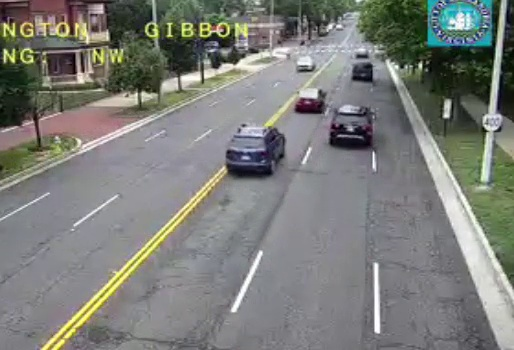car: (226, 126, 286, 169), (329, 105, 372, 141), (295, 88, 323, 113), (352, 63, 373, 82)
